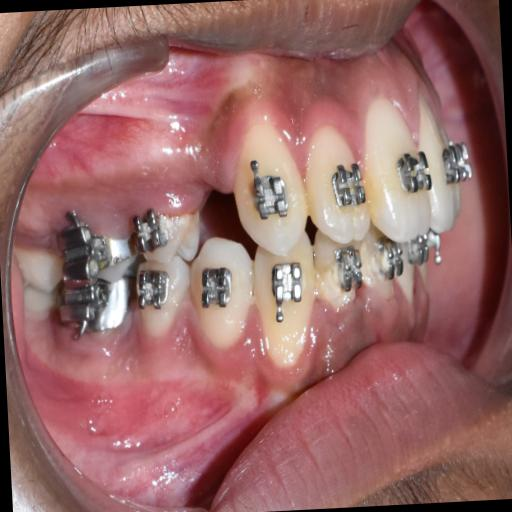correct_brace: (186, 231, 256, 350), (244, 152, 292, 224), (323, 157, 368, 212), (196, 264, 238, 316)
incorrect_brace: (303, 116, 374, 246)
